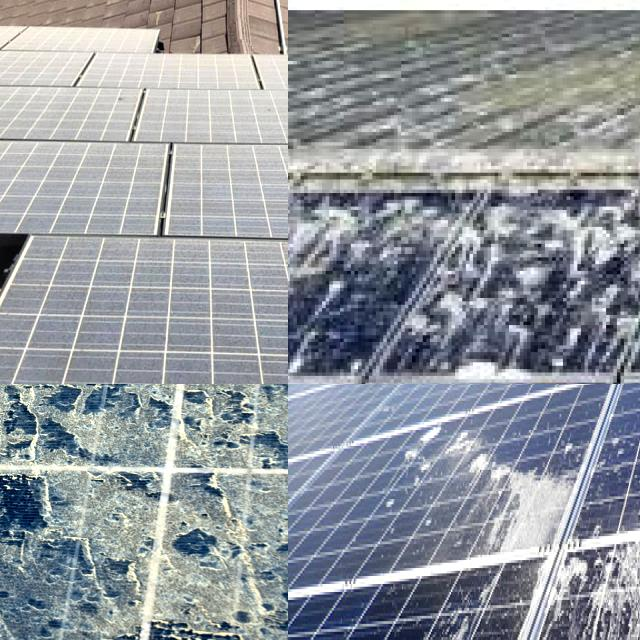bird: (288, 189, 441, 324), (443, 292, 553, 384), (470, 443, 555, 542), (583, 200, 640, 308), (480, 188, 555, 256), (398, 412, 454, 487), (596, 546, 640, 637), (420, 588, 478, 640), (552, 568, 594, 614)
dust: (137, 477, 286, 640), (0, 467, 111, 640), (0, 457, 83, 640), (32, 252, 147, 384), (163, 246, 268, 384), (0, 384, 191, 448), (0, 145, 160, 220), (6, 384, 230, 430), (0, 384, 149, 451), (183, 384, 288, 467), (182, 145, 288, 221), (0, 384, 105, 450), (0, 86, 122, 133), (0, 384, 81, 448), (153, 98, 288, 133), (0, 384, 92, 435), (226, 384, 288, 457), (0, 384, 43, 479), (249, 384, 288, 427)
